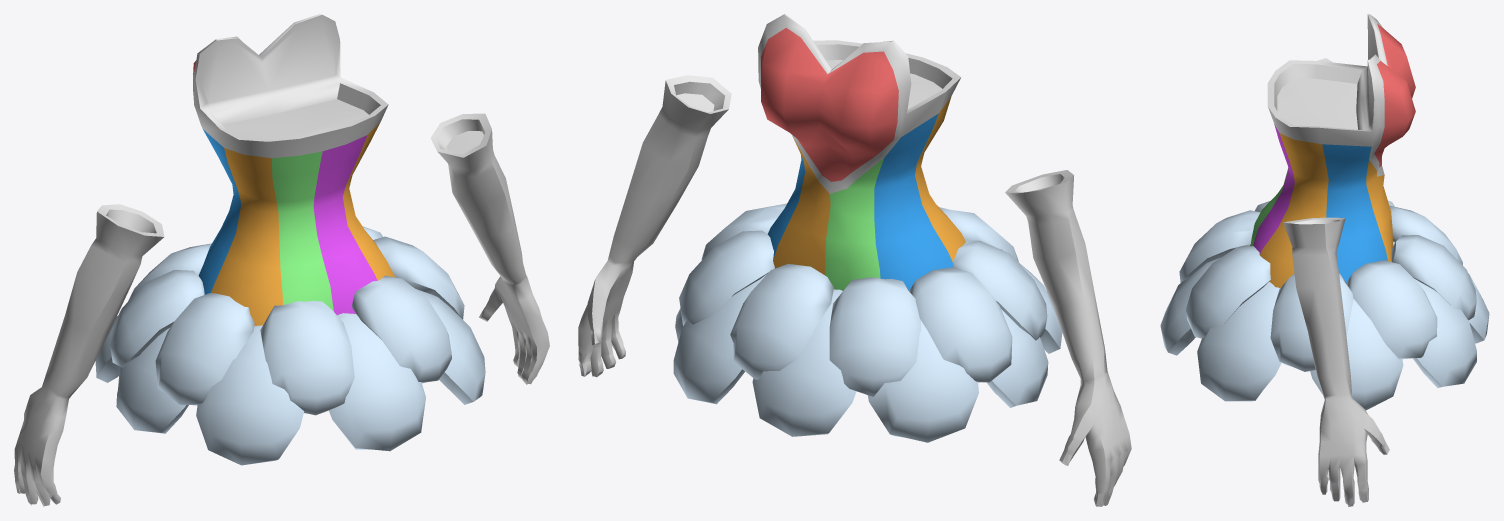
File: StyleDress_2.fbx
3 views of the same model, side by side, from view 1: azimuth 30°, elevation 25°; view 2: azimuth 150°, elevation 25°; view 3: azimuth 270°, elevation 25° (orthographic). The views are drawn at different scales.
Parts seen in each view (by area): view 1: StyleDress_2; view 2: StyleDress_2; view 3: StyleDress_2.
Part boxes in pixels (<box>): StyleDress_2: <box>14,14,549,506</box>; StyleDress_2: <box>578,14,1131,506</box>; StyleDress_2: <box>1160,14,1489,506</box>.
Bounding box in the file's own units: 327 × 249 × 203.
